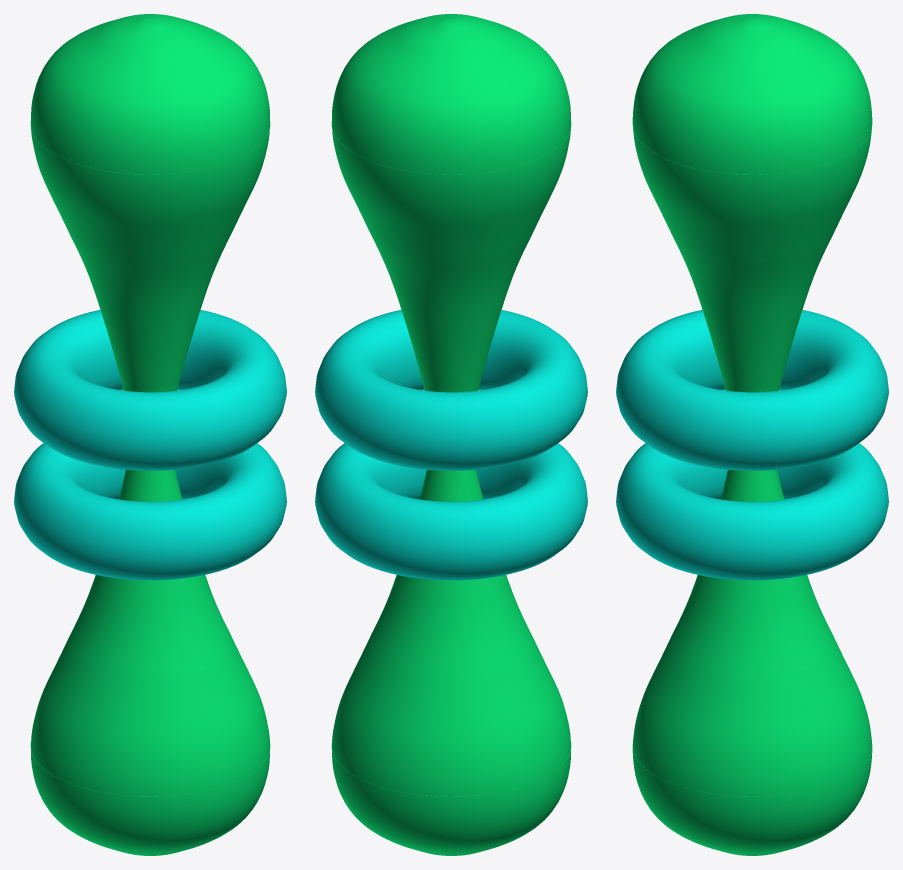
File: orbital_F.fbx
3 views of the same model, side by side, from view 1: azimuth 30°, elevation 25°; view 2: azimuth 150°, elevation 25°; view 3: azimuth 270°, elevation 25° (orthographic).
Parts seen in each view (by area): view 1: Torus.007; view 2: Torus.007; view 3: Torus.007.
Part boxes in pixels (box(x1,y1,x2,y2)): Torus.007: box(14, 14, 286, 855); Torus.007: box(315, 14, 587, 855); Torus.007: box(616, 14, 888, 855).
Size of the model in its own units: 4.51 by 15.08 by 4.51.
